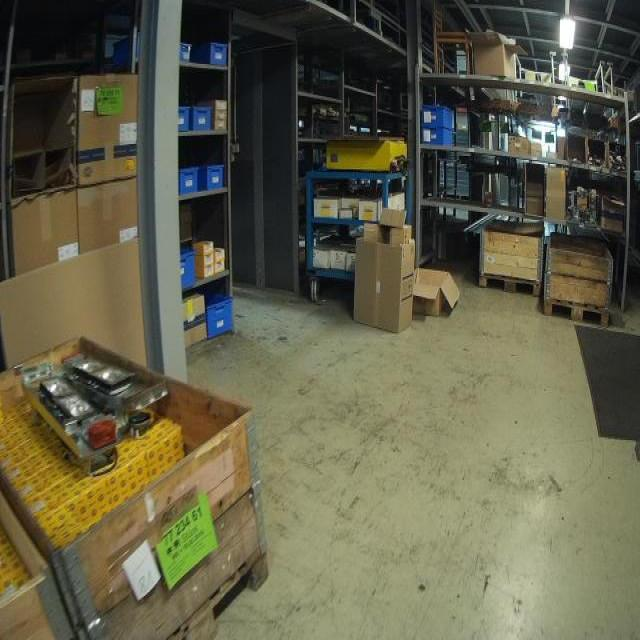pallet: (166, 541, 270, 640), (543, 296, 611, 332), (479, 273, 542, 300)
small_load_carrier: (114, 33, 191, 62), (201, 291, 235, 340), (180, 249, 202, 302), (422, 103, 454, 133), (196, 165, 225, 197), (417, 127, 454, 150), (175, 169, 201, 201), (198, 39, 225, 68), (194, 106, 212, 133), (178, 106, 192, 135)
